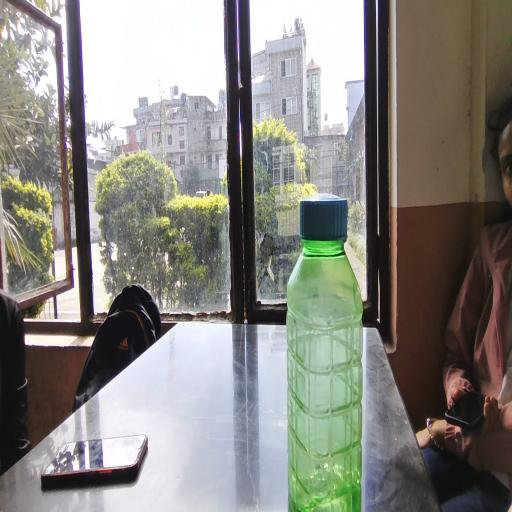Bottle: (292, 183, 367, 503)
